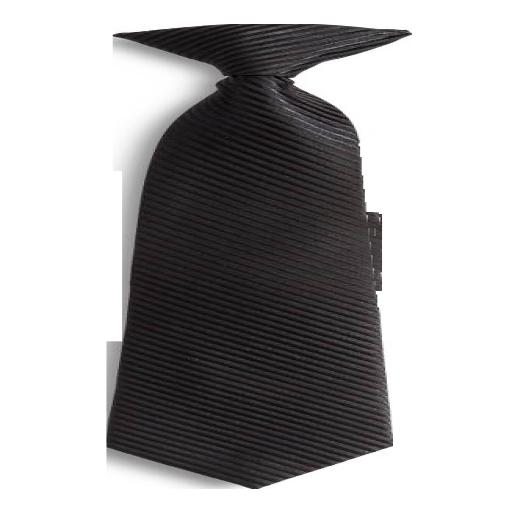tie: (105, 22, 410, 488)
